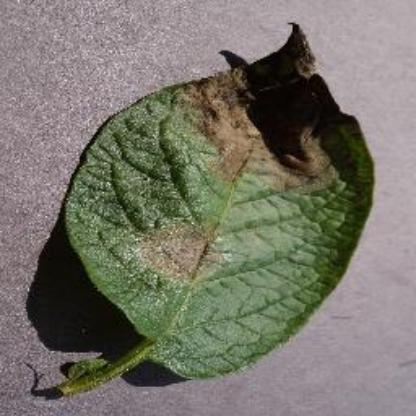Late-Blight: (57, 15, 400, 399)
